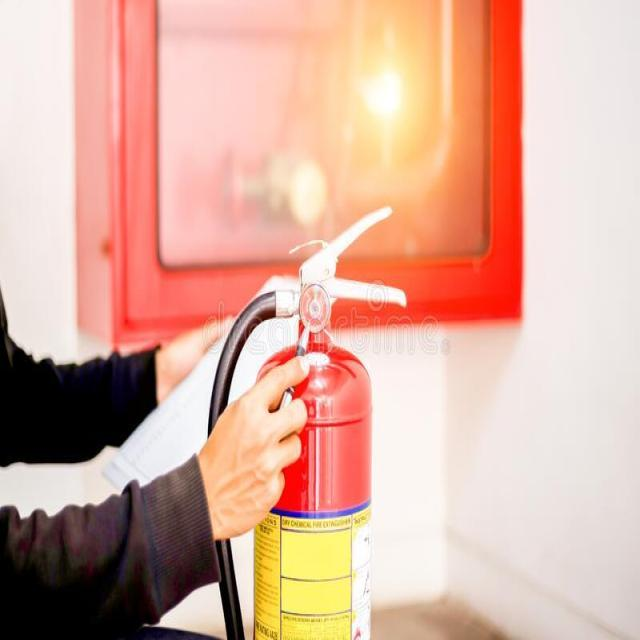fire_extinguisher: (201, 202, 410, 638)
